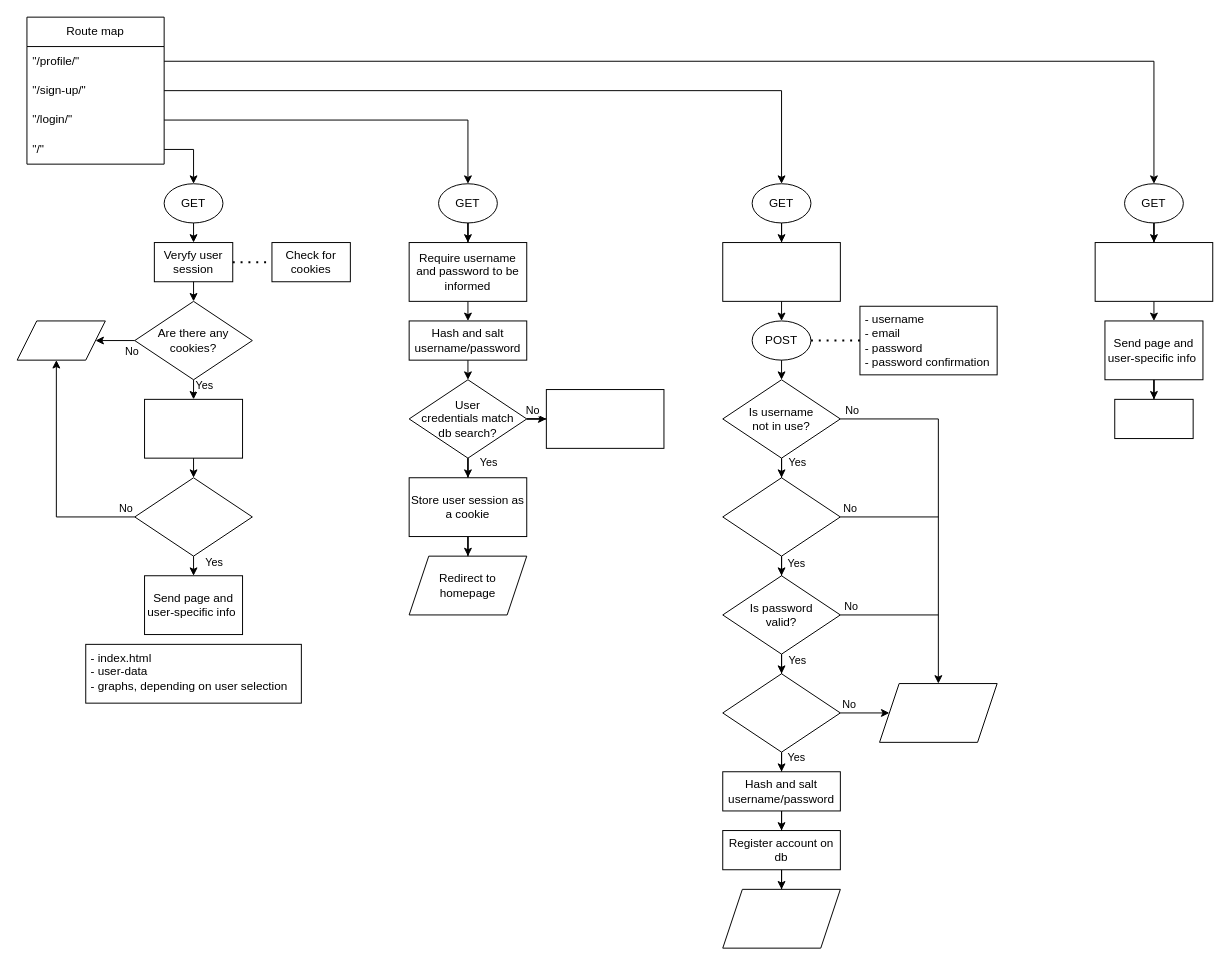
Some shapes in this 1230 by 965 pixel diagram are drawn without their labels. Each missing label, with the centre of its shape:
- index.html - user-data: (1153,418)
Check session validity on the server: (193,428)
Is email valid?: (781,516)
Password and confirmation match?: (781,712)
Redirect to "/login/": (781,918)
Redirect to "/sign-up/" with error: (938,712)
Redirect to login page: (60,340)
Require username, email, password and password confirmation: (781,271)
Session is valid?: (193,516)
Show error, suggest sign up: (604,418)
Validate user, like in "/": (1153,271)
